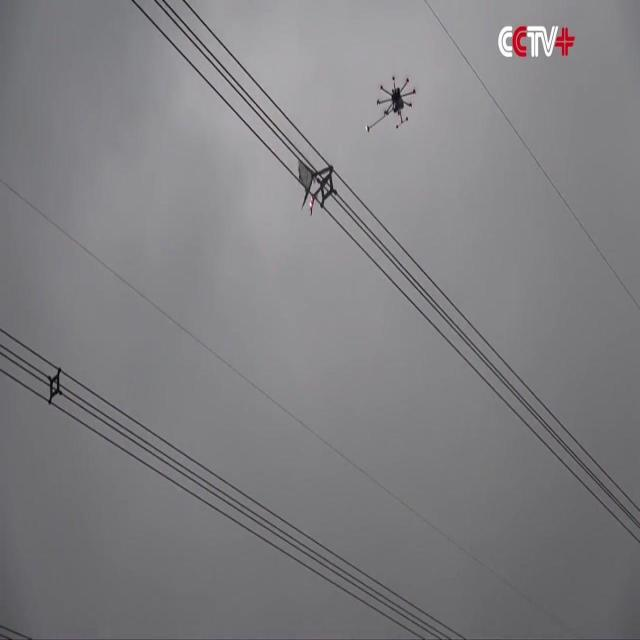drone: (378, 74, 419, 129)
